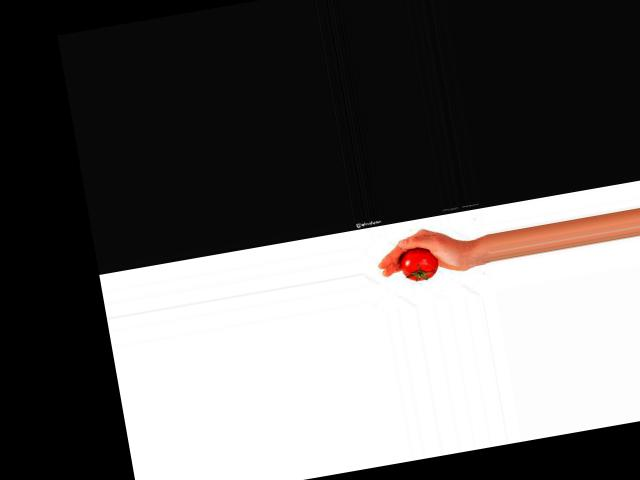tomato: (399, 244, 441, 282)
